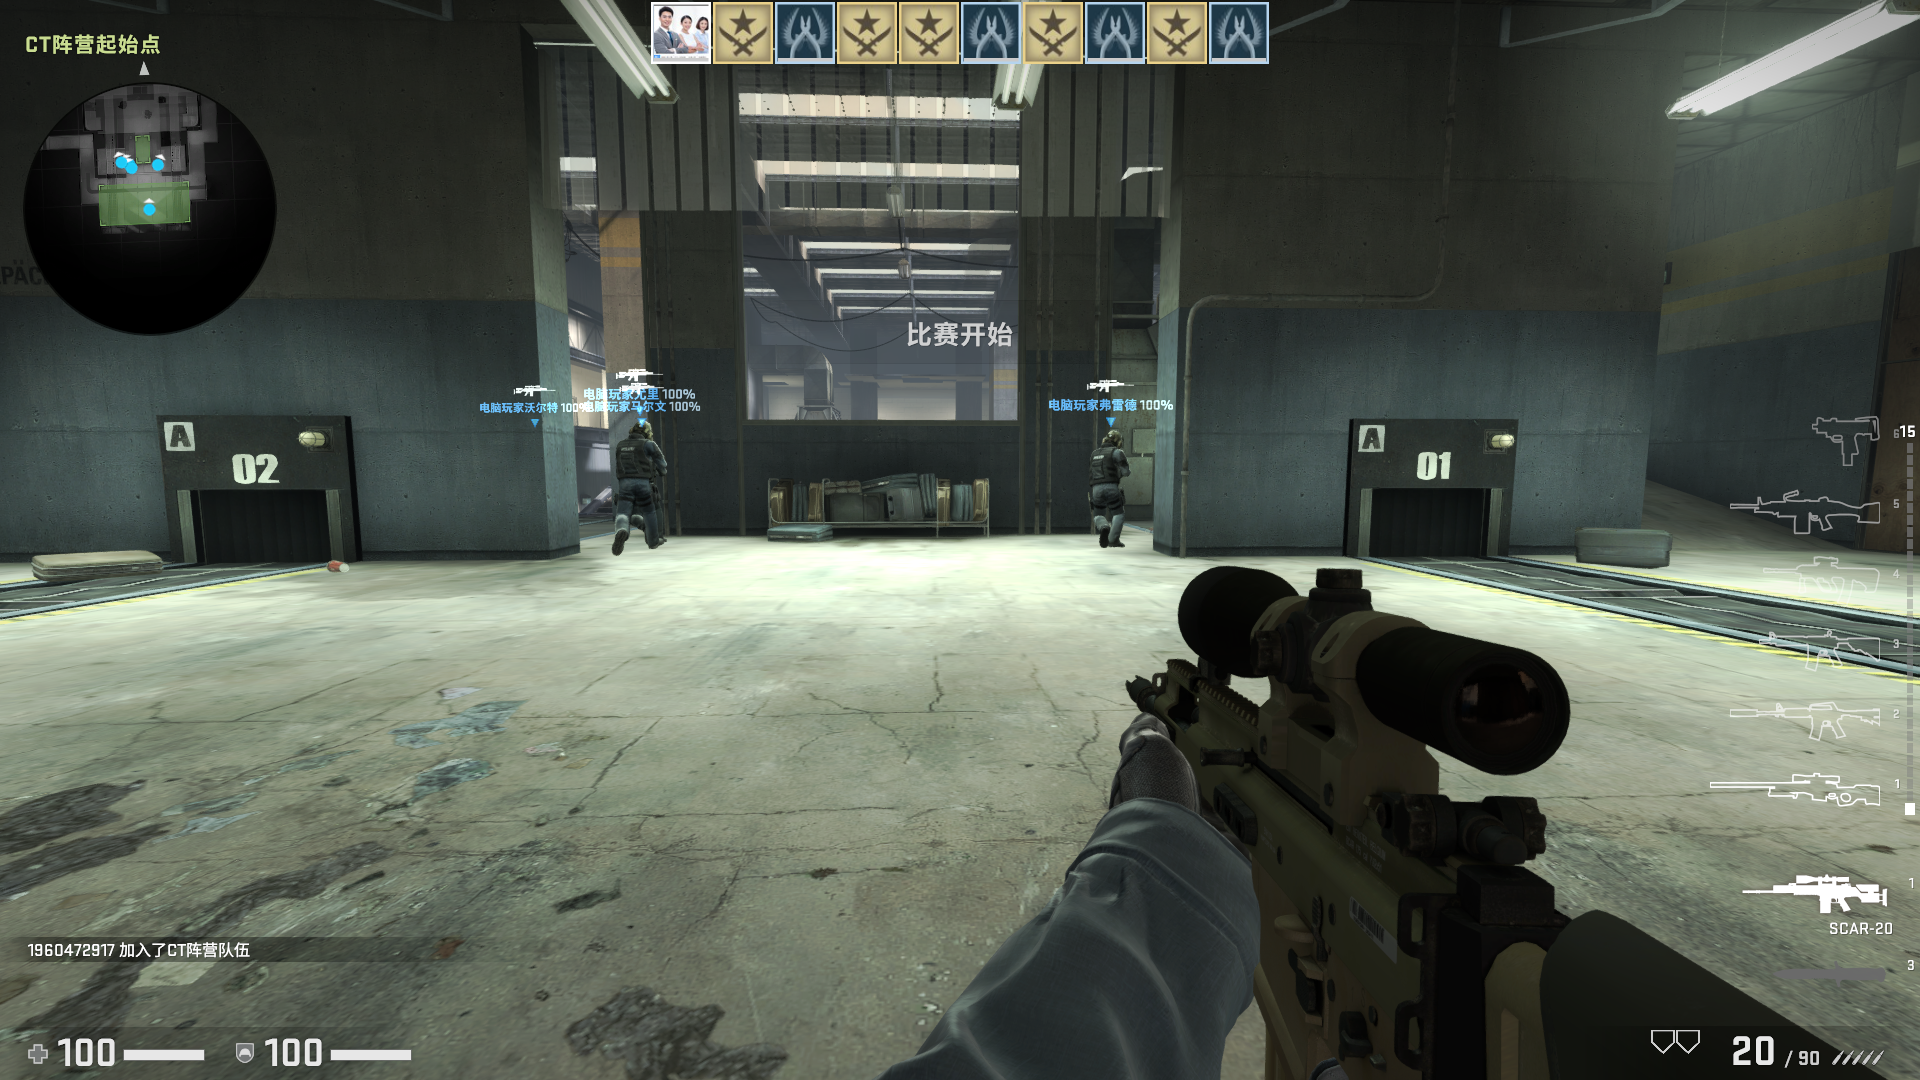person: (612, 419, 669, 552), (1085, 428, 1135, 550)
